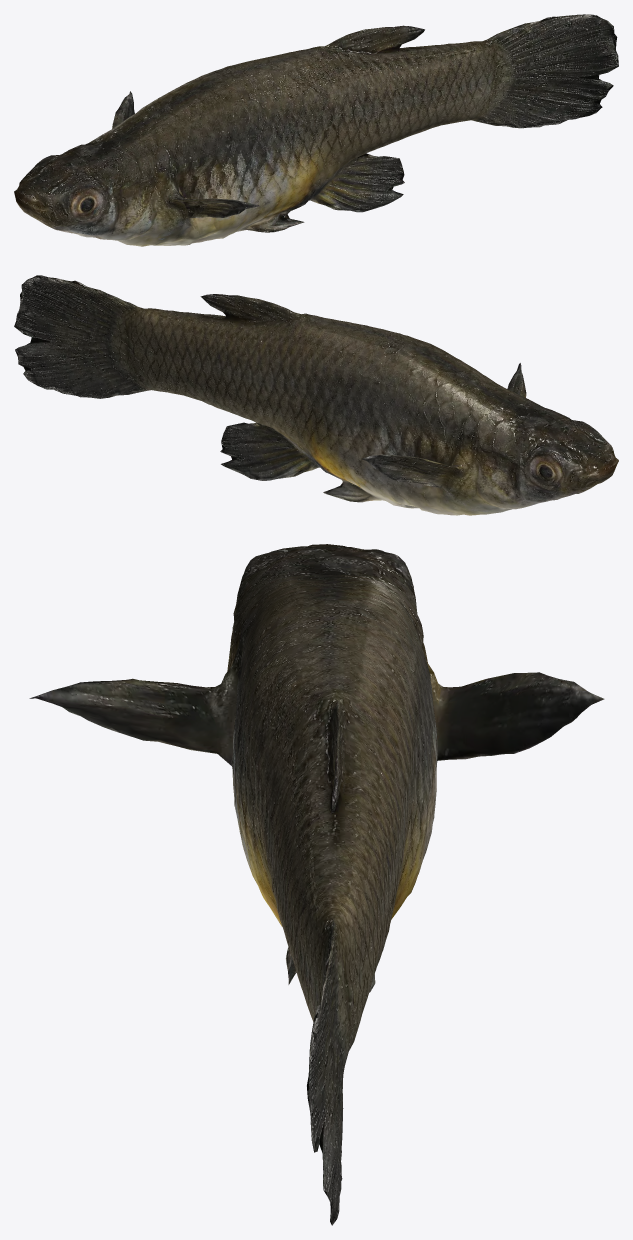
File: mosquitofish.glb
3 renders of one model, top to bottom at view 1: azimuth 30°, elevation 25°; view 2: azimuth 150°, elevation 25°; view 3: azimuth 270°, elevation 25°, orthographic. The views are drawn at different scales.
Parts seen in each view (by area): view 1: low; view 2: low; view 3: low.
Part boxes in pixels (x1,y1,x2,y2): low: (14,14,618,246); low: (14,275,618,515); low: (29,544,604,1225).
Size of the model in its own units: 2 by 0.579 by 0.8361.
Materials: 1 (1 with a texture image).
